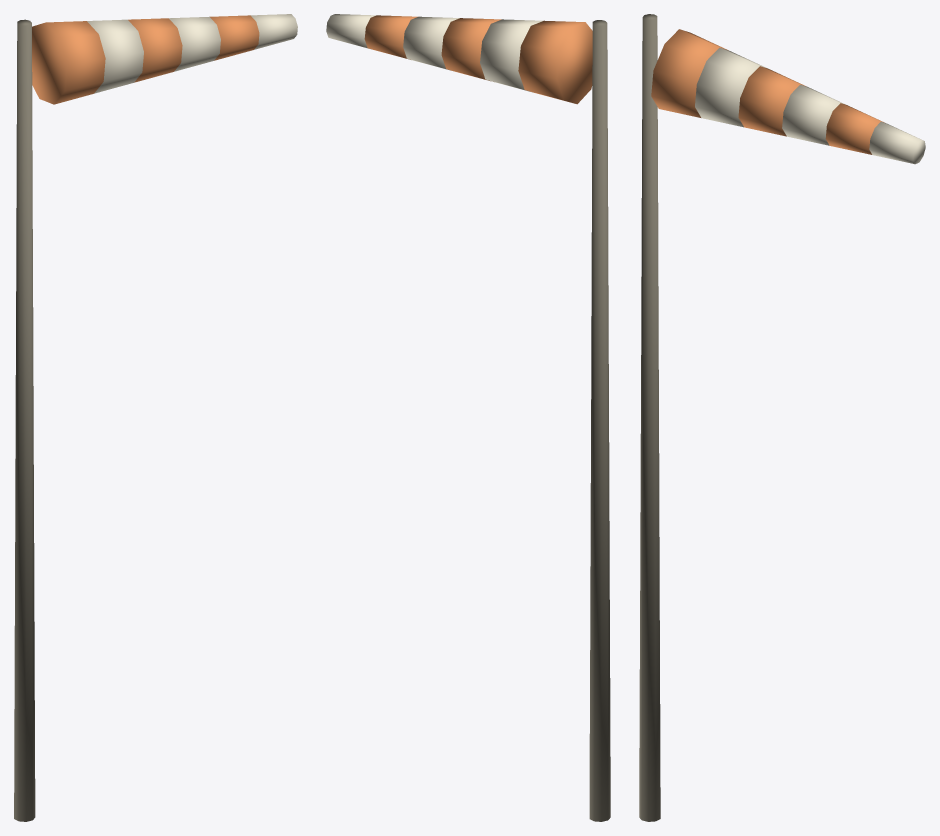
The model's file is beta_windsock.glb.
3 renders of one model, left to right at view 1: azimuth 30°, elevation 25°; view 2: azimuth 150°, elevation 25°; view 3: azimuth 330°, elevation 25°, orthographic.
Parts seen in each view (by area): view 1: Beta dark bark ridges.003, Breeze ochre fabric, Beta warm canvas.001; view 2: Beta dark bark ridges.003, Breeze ochre fabric, Beta warm canvas.001; view 3: Beta dark bark ridges.003, Breeze ochre fabric, Beta warm canvas.001.
Boxes of the visible parts, box(x1,y1,x2,y2) form: Beta dark bark ridges.003: box(14, 19, 35, 821); Breeze ochre fabric: box(32, 15, 259, 104); Beta warm canvas.001: box(87, 14, 297, 93); Beta dark bark ridges.003: box(589, 20, 610, 821); Breeze ochre fabric: box(364, 15, 592, 104); Beta warm canvas.001: box(326, 14, 543, 92); Beta dark bark ridges.003: box(639, 14, 660, 821); Breeze ochre fabric: box(651, 29, 884, 154); Beta warm canvas.001: box(695, 47, 925, 164).
Bounding box in the file's own units: 1.9 × 5.2 × 0.4849.
